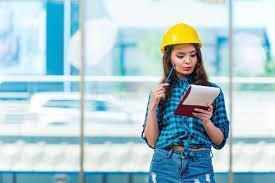helmet: (159, 23, 203, 51)
